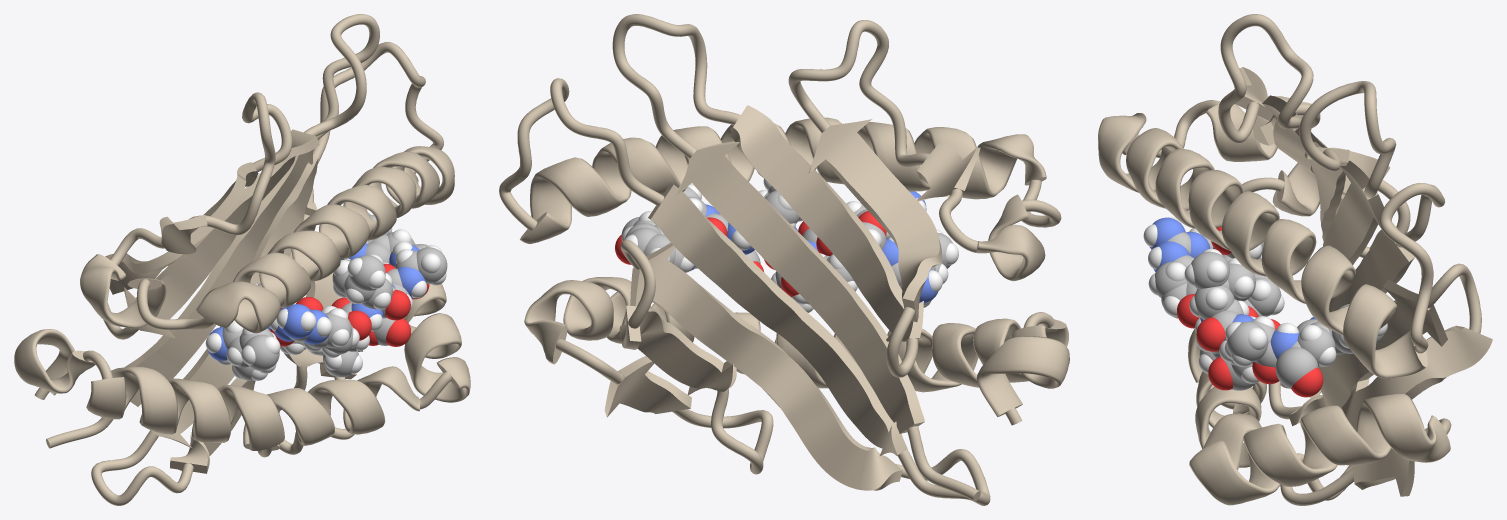
Rendered from structure.glb.
The picture shows the model from 3 angles, left to right: view 1: azimuth 30°, elevation 25°; view 2: azimuth 150°, elevation 25°; view 3: azimuth 270°, elevation 25°; orthographic projection. The views are drawn at different scales.
Visible parts, largest first — view 1: ribbons, atoms 8, atoms 46, atoms 32, atoms 43, atoms 60, atoms 55; view 2: ribbons; view 3: ribbons, atoms 63, atoms 60, atoms 46, atoms 43, atoms 64, atoms 55, atoms 44, atoms 65, atoms 32, atoms 20, atoms 27 (+4 smaller).
Boxes of the visible parts, left/top/right/bottom form: ribbons: left=14, top=14, right=470, bottom=505; atoms 8: left=244, top=334, right=279, bottom=370; atoms 46: left=349, top=255, right=385, bottom=290; atoms 32: left=282, top=304, right=312, bottom=338; atoms 43: left=385, top=290, right=410, bottom=320; atoms 60: left=416, top=247, right=447, bottom=283; atoms 55: left=386, top=318, right=410, bottom=346; ribbons: left=499, top=14, right=1069, bottom=505; ribbons: left=1098, top=14, right=1492, bottom=505; atoms 63: left=1275, top=347, right=1318, bottom=388; atoms 60: left=1227, top=321, right=1268, bottom=362; atoms 46: left=1191, top=251, right=1229, bottom=289; atoms 43: left=1196, top=317, right=1225, bottom=351; atoms 64: left=1291, top=367, right=1323, bottom=397; atoms 55: left=1208, top=357, right=1232, bottom=390; atoms 44: left=1194, top=286, right=1234, bottom=319; atoms 65: left=1297, top=327, right=1335, bottom=367; atoms 32: left=1149, top=217, right=1185, bottom=249; atoms 20: left=1248, top=277, right=1281, bottom=316; atoms 27: left=1155, top=261, right=1187, bottom=297.
Bounding box in the file's own units: 50.01 × 41.49 × 32.44.
